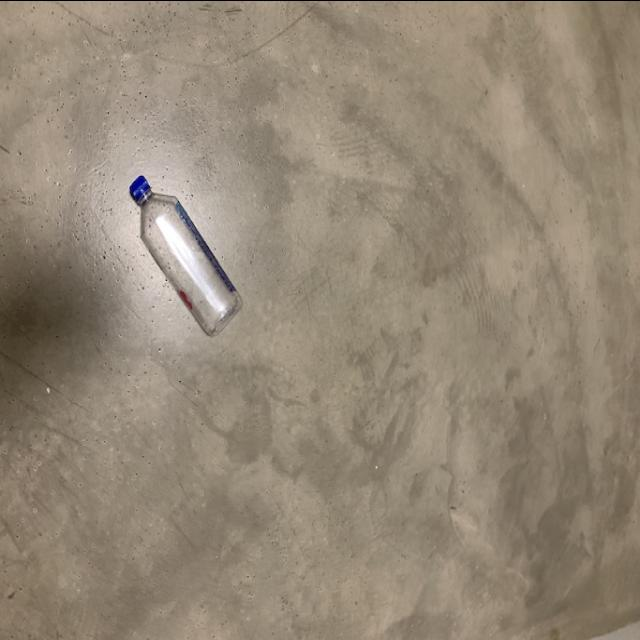PET: (126, 172, 246, 338)
